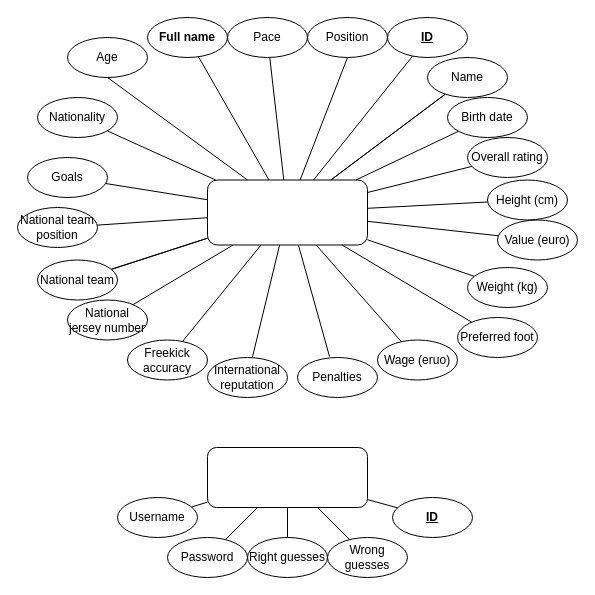
This 595x595 diagram has some shape labels left out. Here are the shapes that lost their labels. From the top down, the centre of each, then its label:
At pixel 287 212: "Player".
At pixel 287 477: "User".
